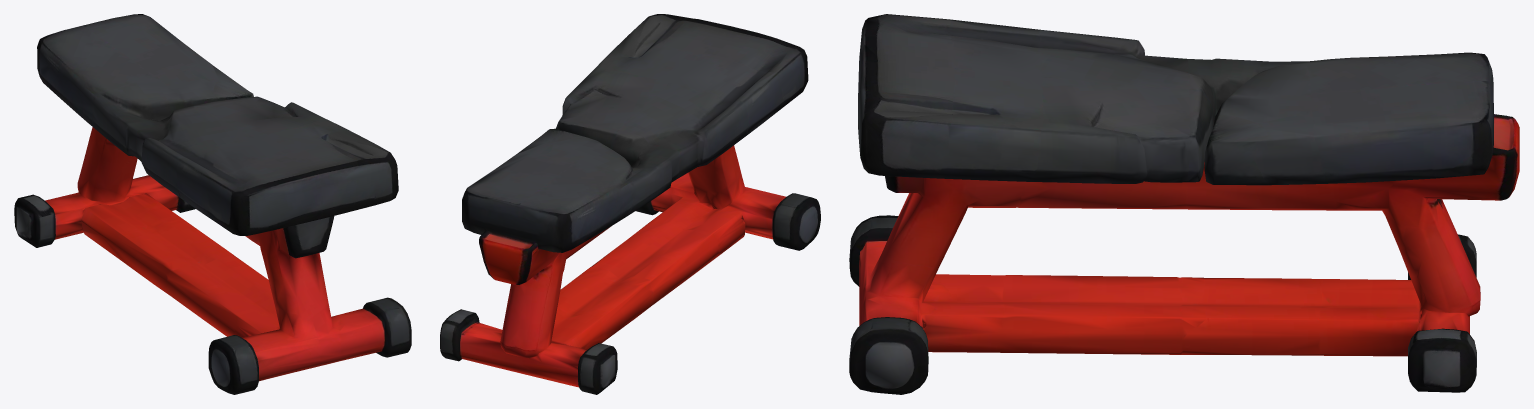
File: bench.glb
The picture shows the model from 3 angles, left to right: view 1: azimuth 30°, elevation 25°; view 2: azimuth 150°, elevation 25°; view 3: azimuth 270°, elevation 25°; orthographic projection. The views are drawn at different scales.
Parts seen in each view (by area): view 1: tripo_node_479e03e0-c9b4-471c-8a96-8c95af1d362d; view 2: tripo_node_479e03e0-c9b4-471c-8a96-8c95af1d362d; view 3: tripo_node_479e03e0-c9b4-471c-8a96-8c95af1d362d.
Boxes of the visible parts, x1,y1,x2,y2 form: tripo_node_479e03e0-c9b4-471c-8a96-8c95af1d362d: [14, 14, 411, 394]; tripo_node_479e03e0-c9b4-471c-8a96-8c95af1d362d: [440, 14, 820, 394]; tripo_node_479e03e0-c9b4-471c-8a96-8c95af1d362d: [849, 14, 1519, 394].
Size of the model in its own units: 0.4217 by 0.4568 by 0.9989.
Materials: 1 (1 with a texture image).
